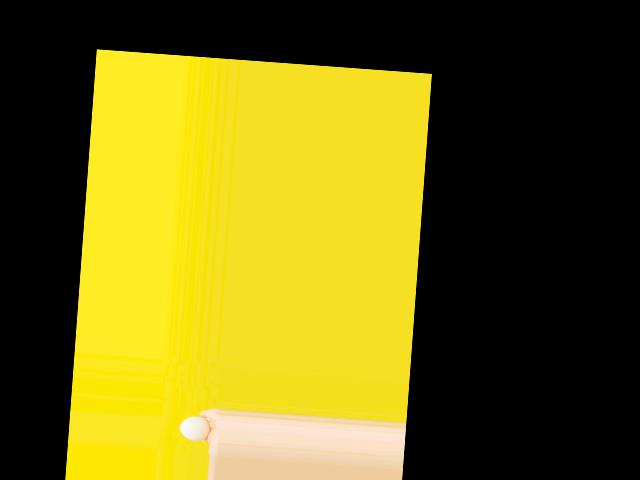egg: (179, 415, 211, 440)
